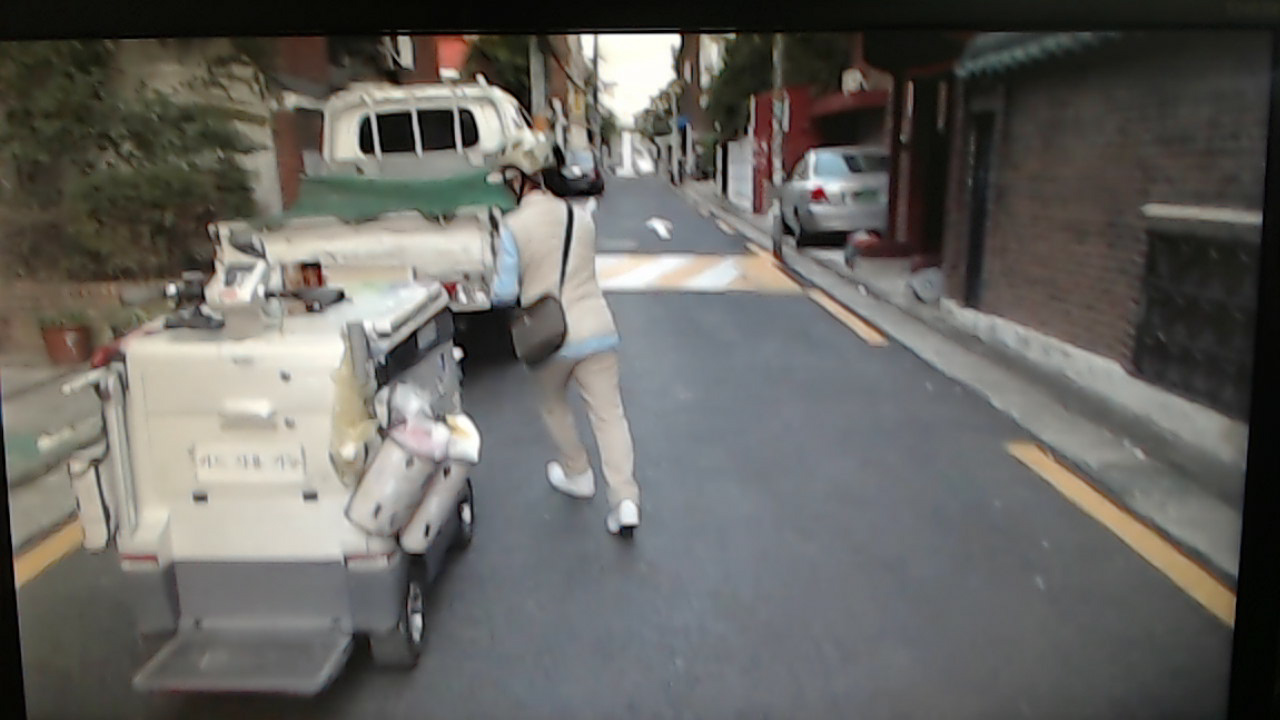Yakurut: (470, 121, 653, 554)
